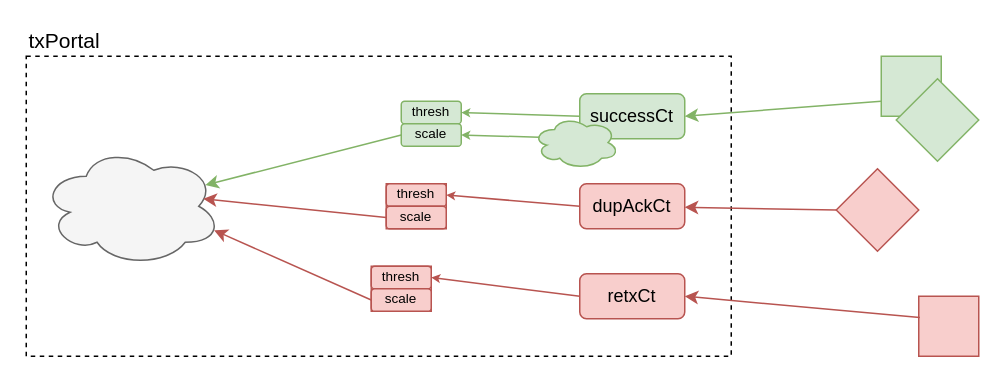
Some shapes in this 1005 by 383 pixel diagram are drawn without their labels. The shapes that lost their labels are listed below. From the top down, each one's centre as x and y in pixels, then its label:
At point (575, 142): "accum".
At point (130, 205): "capacity".
